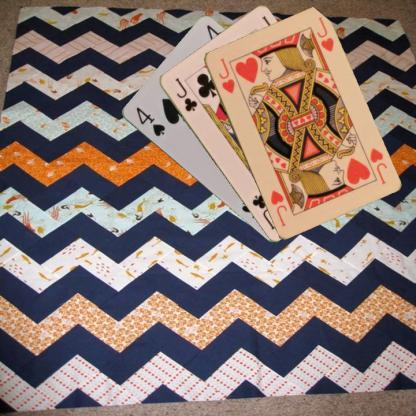4s: (133, 104, 166, 138)
Jc: (172, 75, 199, 113)
Jh: (367, 145, 388, 185), (216, 55, 236, 95)
